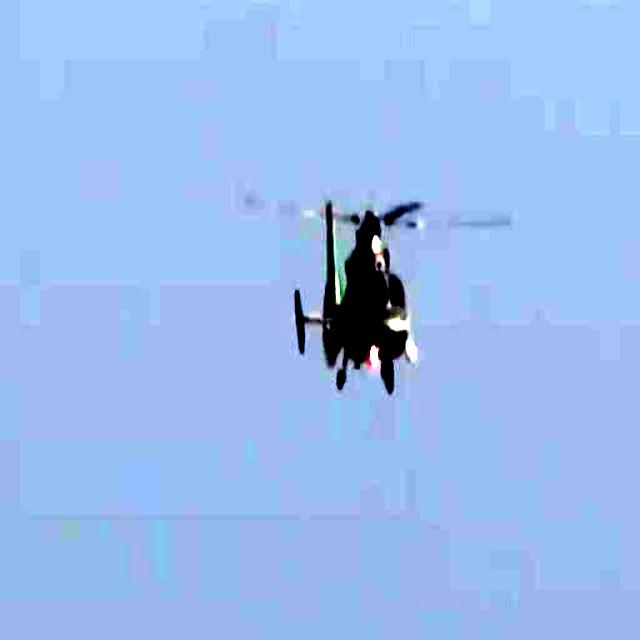drone: (272, 172, 454, 405)
